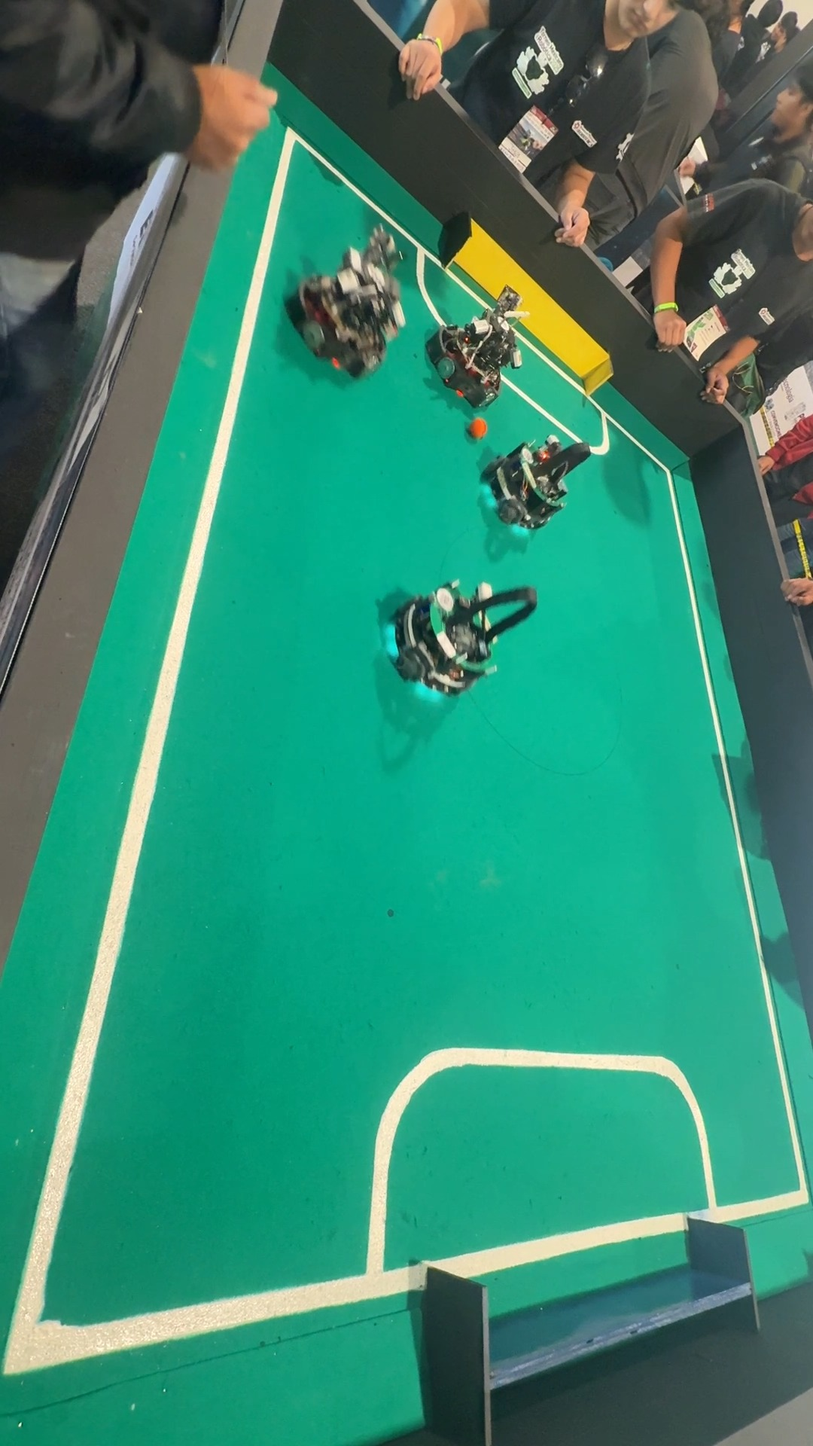Robot: (386, 549, 535, 717), (279, 227, 413, 401), (479, 343, 581, 553), (418, 273, 525, 420)
